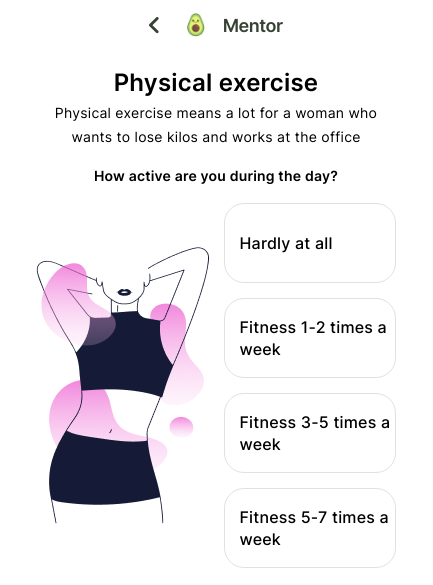
Tests for Header › goes to Behaviors page with clicking back button being at Exercise page
The width and height of the screenshot is (433, 585).
Click the button with test id "back" at [154, 25], box top-left (149, 10), bottom-right (159, 40)
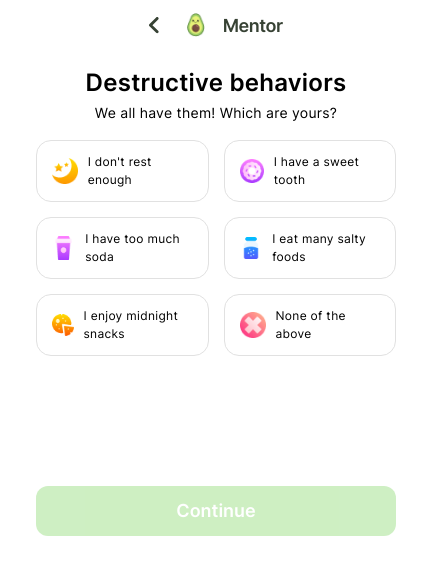
Now the element with test id "behaviors" is shown
